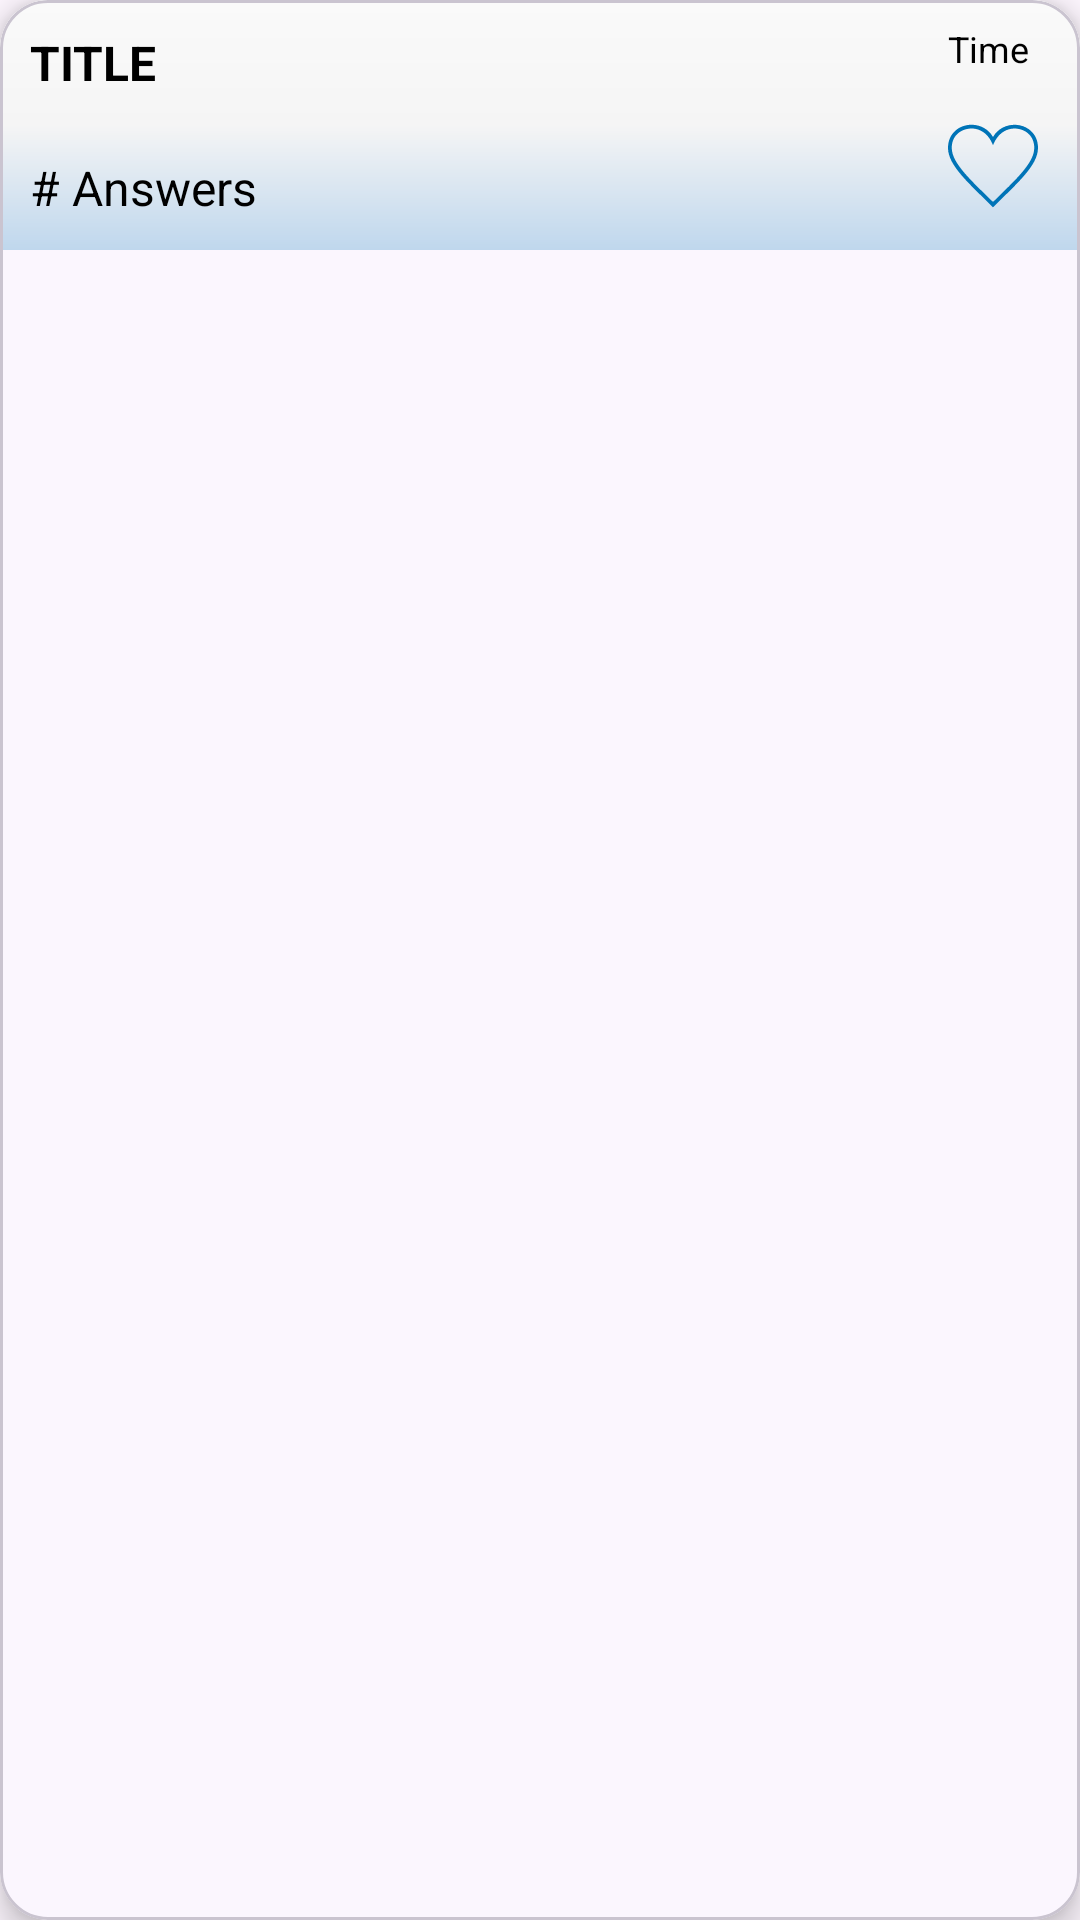

Icon click points for this 1080 x 1920 phone screenshot, format (x,y):
heart: (993,166)
